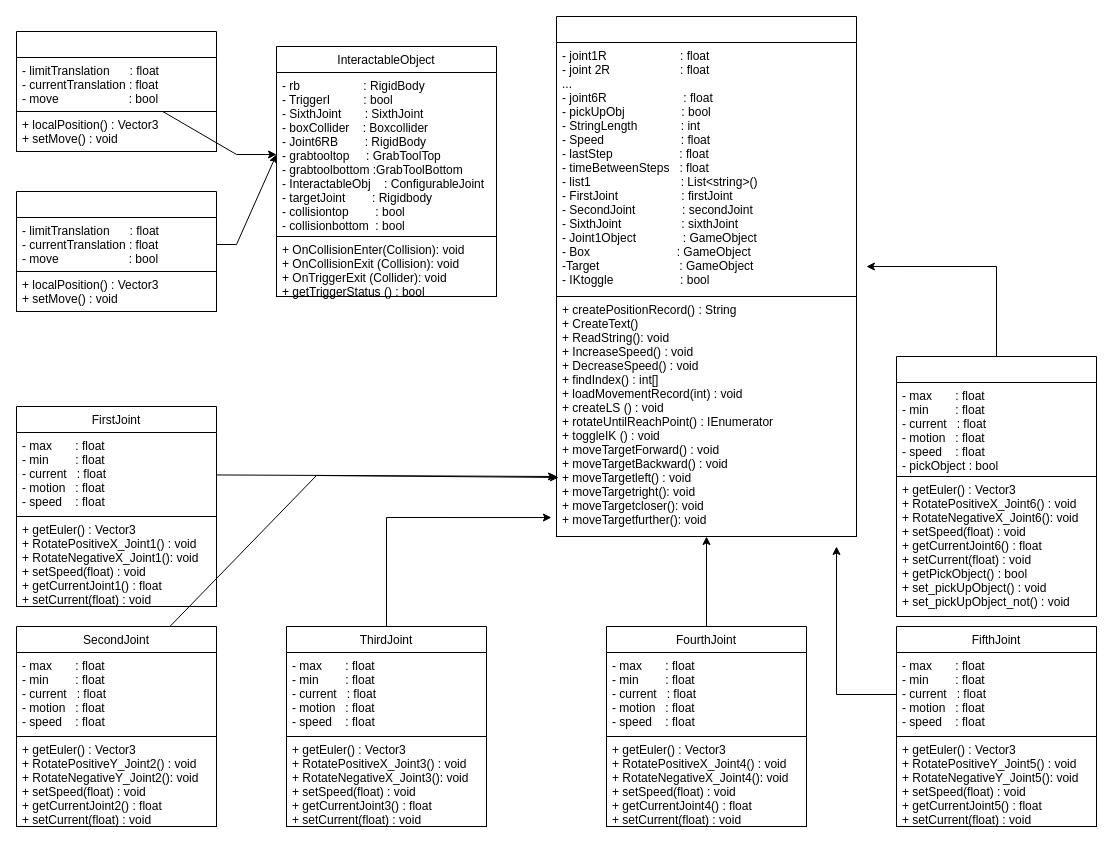
The diagram is 1113 pixels wide and 843 high, and some of its shapes have lost their labels. The shapes that lost their labels are listed below. From the top down, each one's box as (x1, y1, x2, y2) in pixels, then its label:
(16, 30, 216, 152): GrabToolTop
(556, 16, 856, 296): ScriptsController
(16, 190, 216, 312): GrabToolBottom
(896, 356, 1096, 476): SixthJoint
